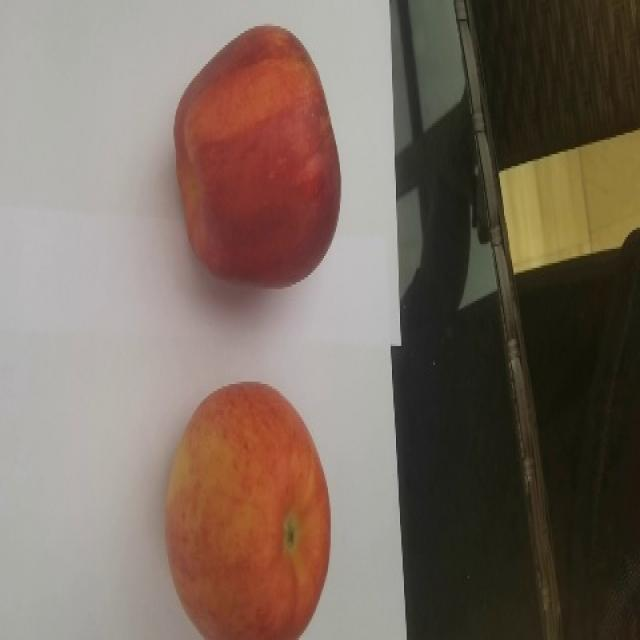Apple: (172, 23, 341, 288), (164, 380, 331, 639)
